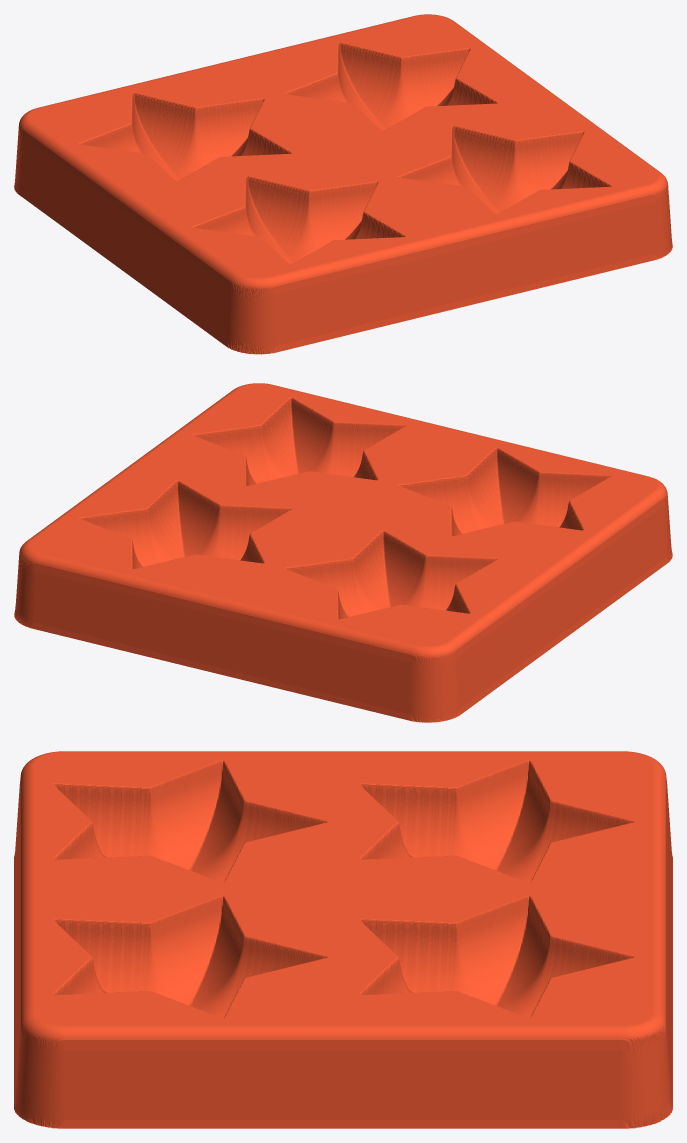
The model's file is mold.glb.
The picture shows the model from 3 angles, top to bottom: view 1: azimuth 30°, elevation 25°; view 2: azimuth 150°, elevation 25°; view 3: azimuth 270°, elevation 25°; orthographic projection. The views are drawn at different scales.
Visible parts, largest first — view 1: geometry_0; view 2: geometry_0; view 3: geometry_0.
Part boxes in pixels (bbox=[...]): geometry_0: bbox=[14, 14, 672, 354]; geometry_0: bbox=[14, 383, 672, 722]; geometry_0: bbox=[14, 751, 672, 1128].
Size of the model in its own units: 0.1218 by 0.0185 by 0.1169.
